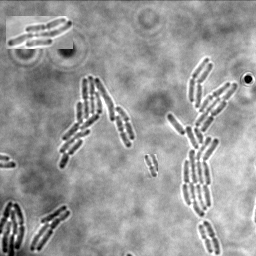Dividing: (204, 219, 222, 255), (199, 223, 215, 253), (144, 154, 158, 178)
Microcolony: (167, 57, 238, 216), (59, 75, 136, 169), (6, 16, 73, 49), (30, 204, 72, 251), (1, 200, 26, 255)
